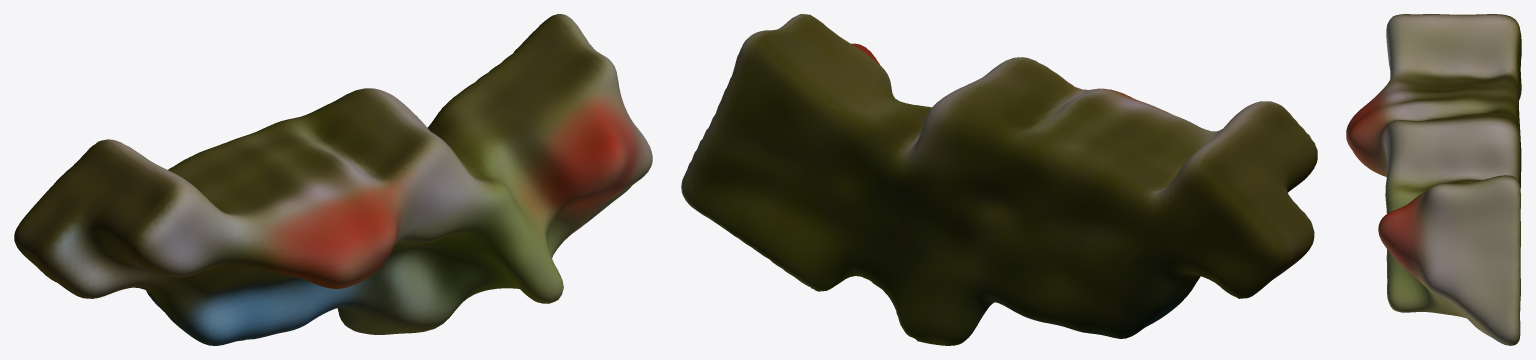
File: blocks.glb
3 renders of one model, left to right at view 1: azimuth 30°, elevation 25°; view 2: azimuth 150°, elevation 25°; view 3: azimuth 270°, elevation 25°, orthographic. The views are drawn at different scales.
Size of the model in its own units: 0.9988 by 0.4202 by 0.3199.
